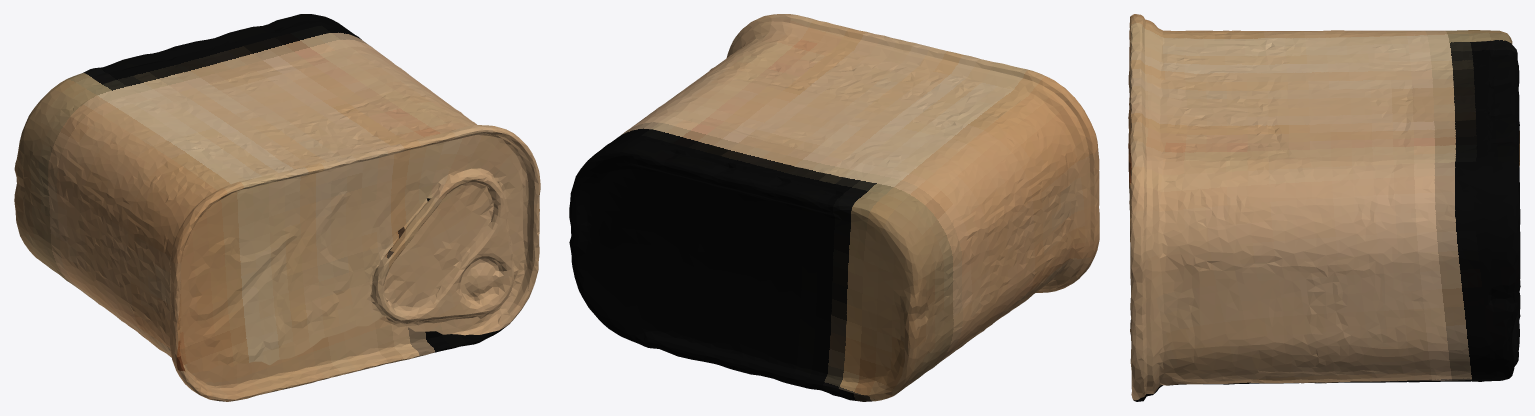
The picture shows the model from 3 angles, left to right: view 1: azimuth 30°, elevation 25°; view 2: azimuth 150°, elevation 25°; view 3: azimuth 270°, elevation 25°; orthographic projection. The views are drawn at different scales.
Size of the model in its own units: 0.1016 by 0.0576 by 0.0835.
